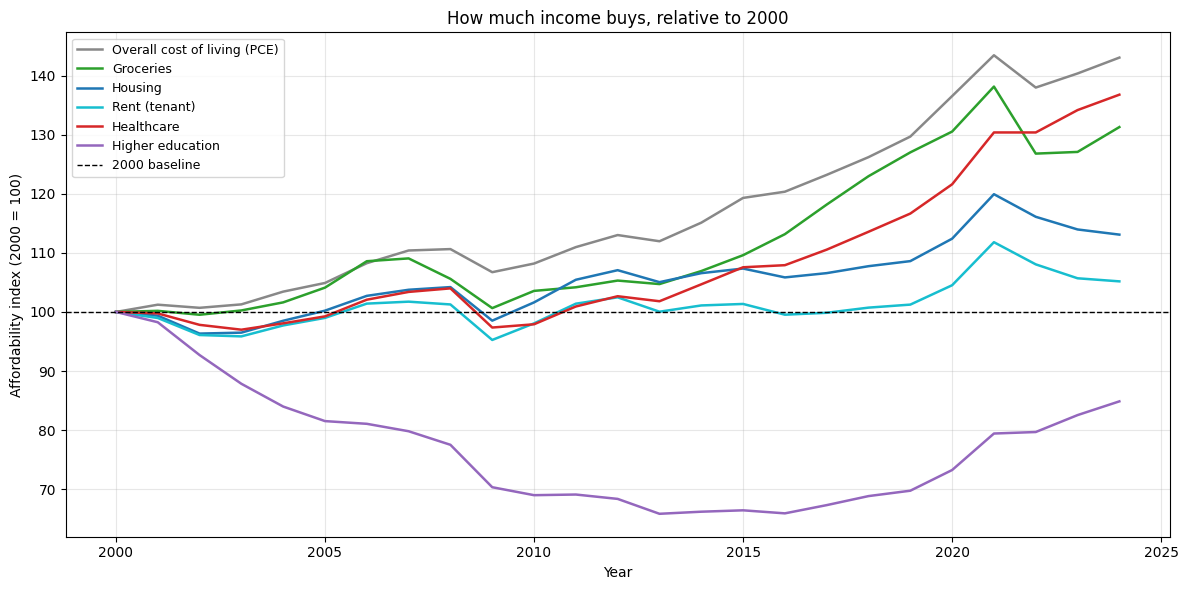

Layout of this report page (visuals, bound fields, positions):
{"tool":"powerbi","page":{"name":"Page 1","canvas":[1280,720],"ordinal":0},"visuals":[{"type":"lineChart","fields":{"Category":["Sheet1.GeoName","Sheet1.Year"],"Y":["Sum(Sheet1.Income (billion))"]},"box":[293.8,95.9,692.8,408.9],"z":0}]}

Visuals, with their boxes on the page's 1280x720 design canvas (x1, y1, x2, y2). These are canvas units, not pixel positions in the 1188x590 screenshot, which may show the page scaled, cropped or inside an application window:
lineChart - Sheet1.GeoName x Sheet1.Year: BBox(294, 96, 987, 505)
